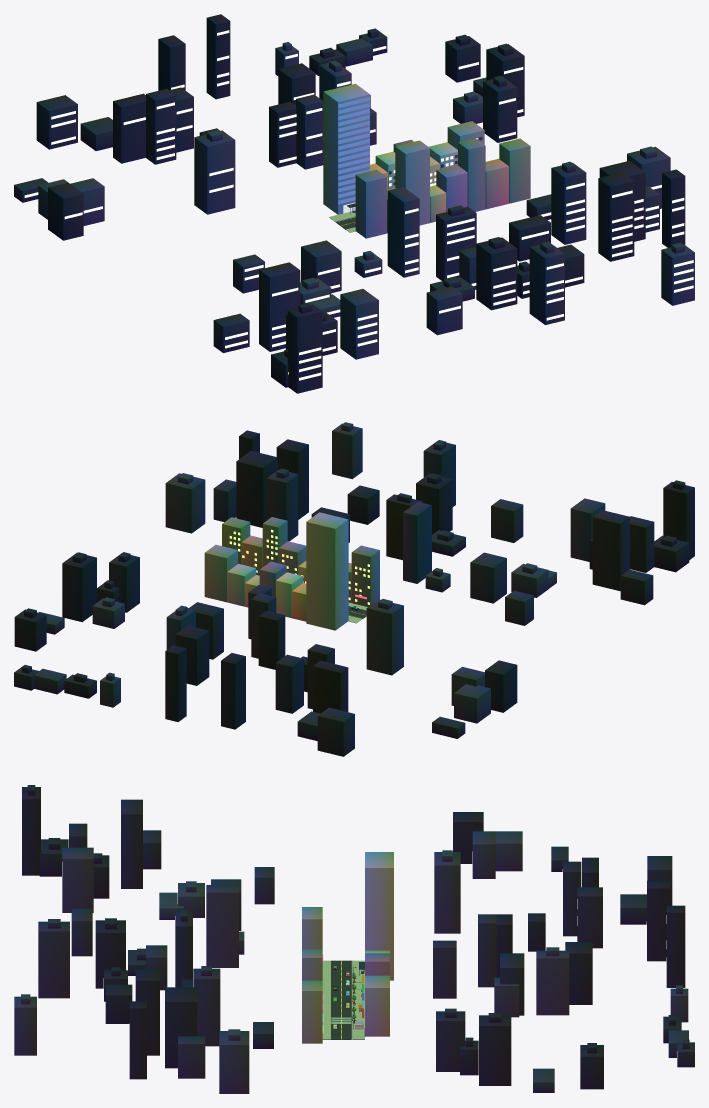
File: street.glb
3 renders of one model, top to bottom at view 1: azimuth 30°, elevation 25°; view 2: azimuth 150°, elevation 25°; view 3: azimuth 270°, elevation 25°, orthographic. The views are drawn at different scales.
Visible parts, largest first — view 1: Arch_Skyline.001, Arch_Skyline, Arch_Hansung, Arch_FarBldg_2, Arch_FarBldg, Arch_FarBldg_5, Arch_FarBldg_7, Arch_FarBldg_6, Arch_FarBldg_4, Arch_Bldg_5; view 2: Arch_Skyline.001, Arch_Skyline, Arch_Hansung, Arch_FarBldg, Arch_Bldg_5, Arch_FarBldg_5, Arch_Bldg_4, Arch_Bldg_1, Arch_FarBldg_7, Arch_FarBldg_4, Arch_FarBldg_6, Arch_Bldg_2 (+1 smaller); view 3: Arch_Skyline.001, Arch_Skyline, Arch_Hansung, Arch_Bldg_5, Arch_Road-col, Arch_FarBldg_7, Arch_FarBldg_2, Arch_FarSidewalk, Arch_FarBldg_5, Arch_Sidewalk-col, Arch_Bldg_2.
Boxes of the visible parts, x1,y1,x2,y2 form: Arch_Skyline.001: [213, 146, 694, 393]; Arch_Skyline: [14, 14, 524, 240]; Arch_Hansung: [323, 83, 369, 214]; Arch_FarBldg_2: [395, 140, 429, 225]; Arch_FarBldg: [355, 169, 386, 238]; Arch_FarBldg_5: [458, 138, 485, 211]; Arch_FarBldg_7: [499, 138, 530, 203]; Arch_FarBldg_6: [485, 158, 508, 209]; Arch_FarBldg_4: [436, 165, 467, 211]; Arch_Bldg_5: [447, 121, 484, 149]; Arch_Skyline.001: [165, 422, 694, 625]; Arch_Skyline: [14, 552, 517, 756]; Arch_Hansung: [306, 512, 348, 630]; Arch_FarBldg: [351, 545, 379, 606]; Arch_Bldg_5: [204, 544, 237, 602]; Arch_FarBldg_5: [262, 517, 287, 566]; Arch_Bldg_4: [227, 564, 255, 606]; Arch_Bldg_1: [276, 572, 302, 618]; Arch_FarBldg_7: [222, 517, 250, 564]; Arch_FarBldg_4: [278, 541, 306, 574]; Arch_FarBldg_6: [241, 535, 262, 575]; Arch_Bldg_2: [259, 561, 286, 596]; Arch_Skyline.001: [14, 785, 274, 1093]; Arch_Skyline: [432, 812, 694, 1092]; Arch_Hansung: [365, 852, 393, 980]; Arch_Bldg_5: [365, 975, 389, 1036]; Arch_Road-col: [331, 960, 351, 1039]; Arch_FarBldg_7: [302, 980, 322, 1043]; Arch_FarBldg_2: [302, 907, 322, 949]; Arch_FarSidewalk: [322, 960, 330, 1039]; Arch_FarBldg_5: [302, 949, 322, 980]; Arch_Sidewalk-col: [352, 960, 364, 1026]; Arch_Bldg_2: [365, 953, 389, 975].
Size of what is drawn, in the model's own units: 274 by 63.4 by 328.
